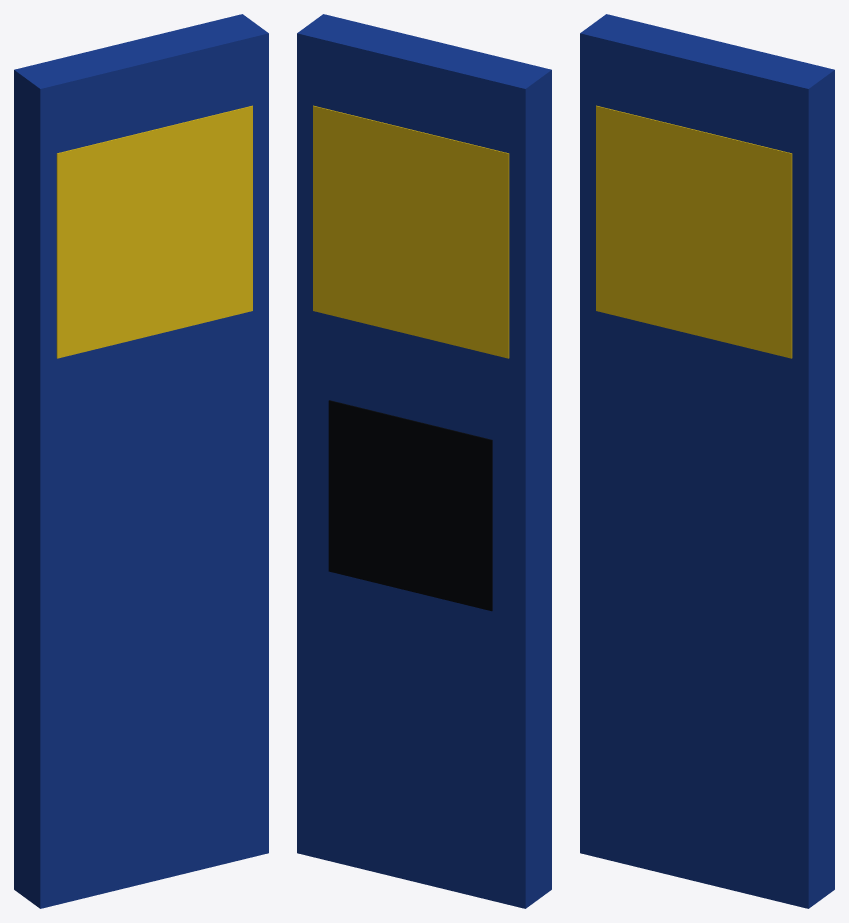
The model's file is airport.landside.totem.glb.
3 renders of one model, left to right at view 1: azimuth 30°, elevation 25°; view 2: azimuth 150°, elevation 25°; view 3: azimuth 330°, elevation 25°, orthographic.
Visible parts, largest first — view 1: main__plastic_blue, main__plastic_yellow; view 2: main__plastic_blue, main__plastic_yellow, main__screen; view 3: main__plastic_blue, main__plastic_yellow.
Part boxes in pixels (box(x1,y1,x2,y2)): main__plastic_blue: box(14, 14, 268, 908); main__plastic_yellow: box(56, 105, 252, 358); main__plastic_blue: box(297, 14, 551, 908); main__plastic_yellow: box(313, 105, 509, 358); main__screen: box(328, 400, 492, 611); main__plastic_blue: box(580, 14, 834, 908); main__plastic_yellow: box(596, 105, 792, 358).
Bounding box in the file's own units: 0.7 × 2.4 × 0.1475.
